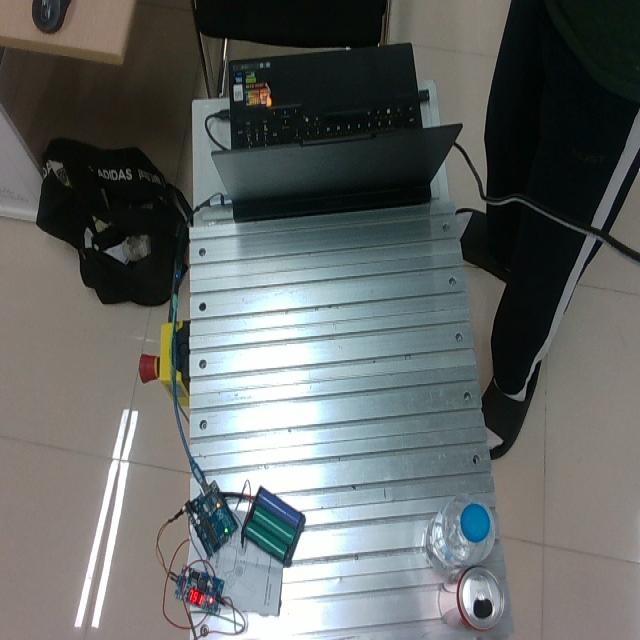coca: (453, 566, 504, 630)
lavie: (423, 492, 495, 579)
